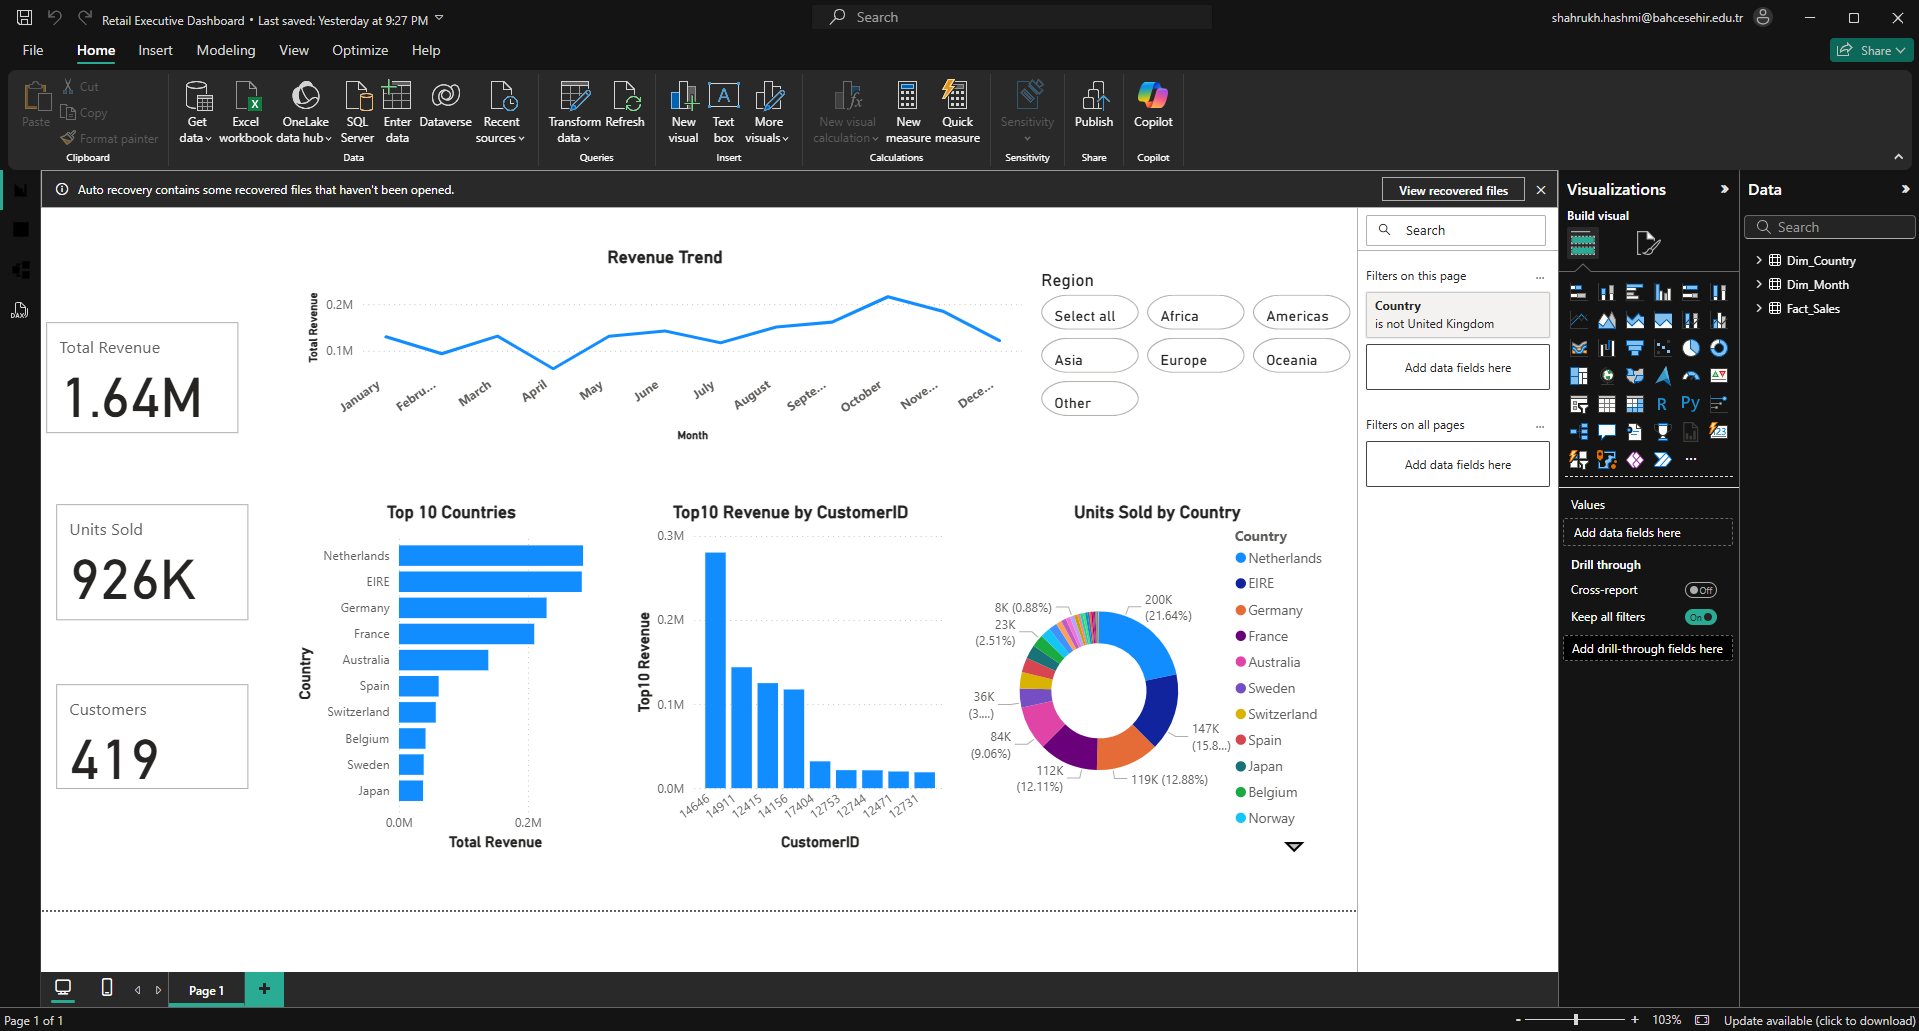

The dashboard page shown, as its layout file describes it:
{"tool":"powerbi","page":{"name":"Page 1","canvas":[1280,720],"ordinal":0},"visuals":[{"type":"lineChart","title":"Revenue Trend","fields":{"Category":["Dim_Month.Month.Variation.Date Hierarchy.Month"],"Y":["Fact_Sales.Total Revenue"]},"box":[254.8,74.9,704.2,193.6],"z":0},{"type":"clusteredBarChart","title":"Top 10 Countries","fields":{"Category":["Dim_Country.Country"],"Y":["Fact_Sales.Total Revenue"]},"box":[243.2,322.9,312.2,343.3],"z":1000},{"type":"clusteredColumnChart","fields":{"Category":["Fact_Sales.CustomerID"],"Y":["Dim_Country.Top10 Revenue"]},"box":[572.9,322.9,312.2,343.3],"z":2000},{"type":"donutChart","fields":{"Category":["Dim_Country.Country"],"Y":["Dim_Country.Units Sold"]},"box":[891.9,322.9,388.1,348.2],"z":3000},{"type":"advancedSlicerVisual","fields":{"Values":["Dim_Country.Region"]},"box":[967.8,97.3,312.2,149.8],"z":4000},{"type":"cardVisual","fields":{"Data":["Fact_Sales.Total Revenue"]},"box":[0,143,197.4,118.7],"z":5000},{"type":"cardVisual","fields":{"Data":["Dim_Country.Units Sold"]},"box":[9.7,320,197.4,123.5],"z":6000},{"type":"cardVisual","fields":{"Data":["Dim_Country.Customers"]},"box":[9.7,495.1,197.4,112.8],"z":7000},{"type":"textbox","box":[0,0,1280,60.3],"z":7001}]}

Visuals, with their boxes on the page's 1280x720 design canvas (x1, y1, x2, y2). These are canvas units, not pixel positions in the 1919x1031 screenshot, which may show the page scaled, cropped or inside an application window:
"Revenue Trend" lineChart: [255, 75, 959, 268]
"Top 10 Countries" clusteredBarChart: [243, 323, 555, 666]
clusteredColumnChart - Fact_Sales.CustomerID x Dim_Country.Top10 Revenue: [573, 323, 885, 666]
donutChart - Dim_Country.Country x Dim_Country.Units Sold: [892, 323, 1280, 671]
advancedSlicerVisual - Dim_Country.Region: [968, 97, 1280, 247]
cardVisual - Fact_Sales.Total Revenue: [0, 143, 197, 262]
cardVisual - Dim_Country.Units Sold: [10, 320, 207, 444]
cardVisual - Dim_Country.Customers: [10, 495, 207, 608]
textbox: [0, 0, 1280, 60]
